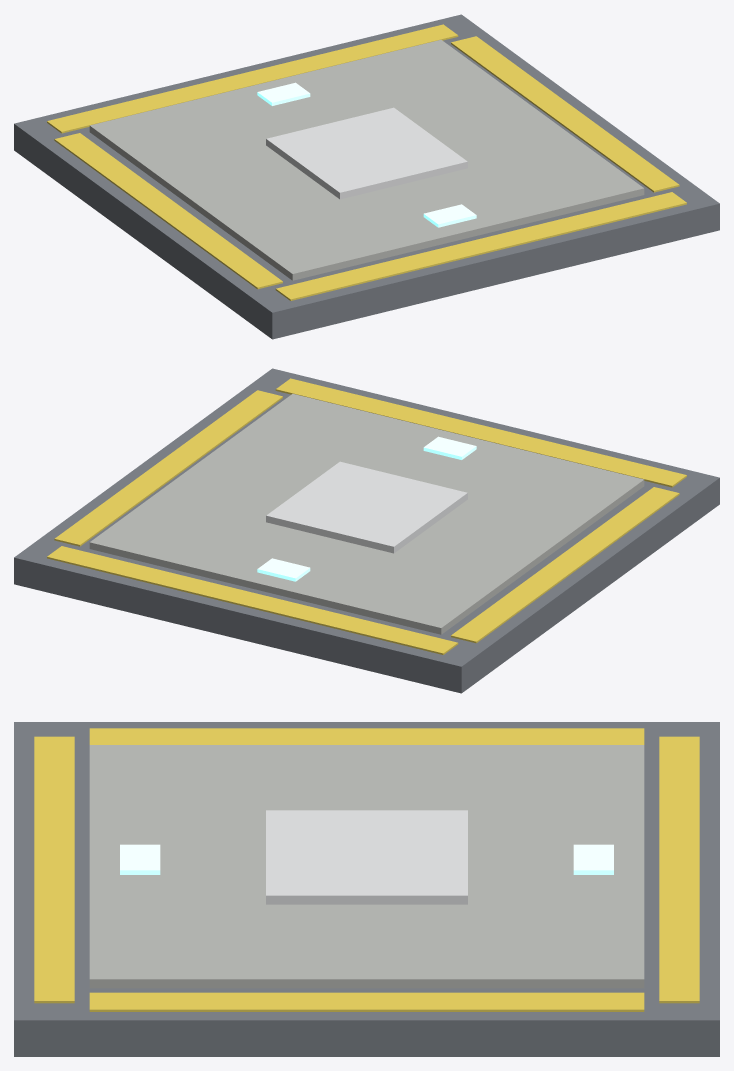
Rendered from charging-pad-square.glb.
The picture shows the model from 3 angles, top to bottom: view 1: azimuth 30°, elevation 25°; view 2: azimuth 150°, elevation 25°; view 3: azimuth 270°, elevation 25°; orthographic projection. The views are drawn at different scales.
Parts seen in each view (by area): view 1: charging-pad-square; view 2: charging-pad-square; view 3: charging-pad-square.
Part boxes in pixels (x1,y1,x2,y2): charging-pad-square: [14, 14, 719, 339]; charging-pad-square: [14, 368, 719, 693]; charging-pad-square: [14, 722, 719, 1056].
Bounding box in the file's own units: 1.4 × 0.12 × 1.4.
